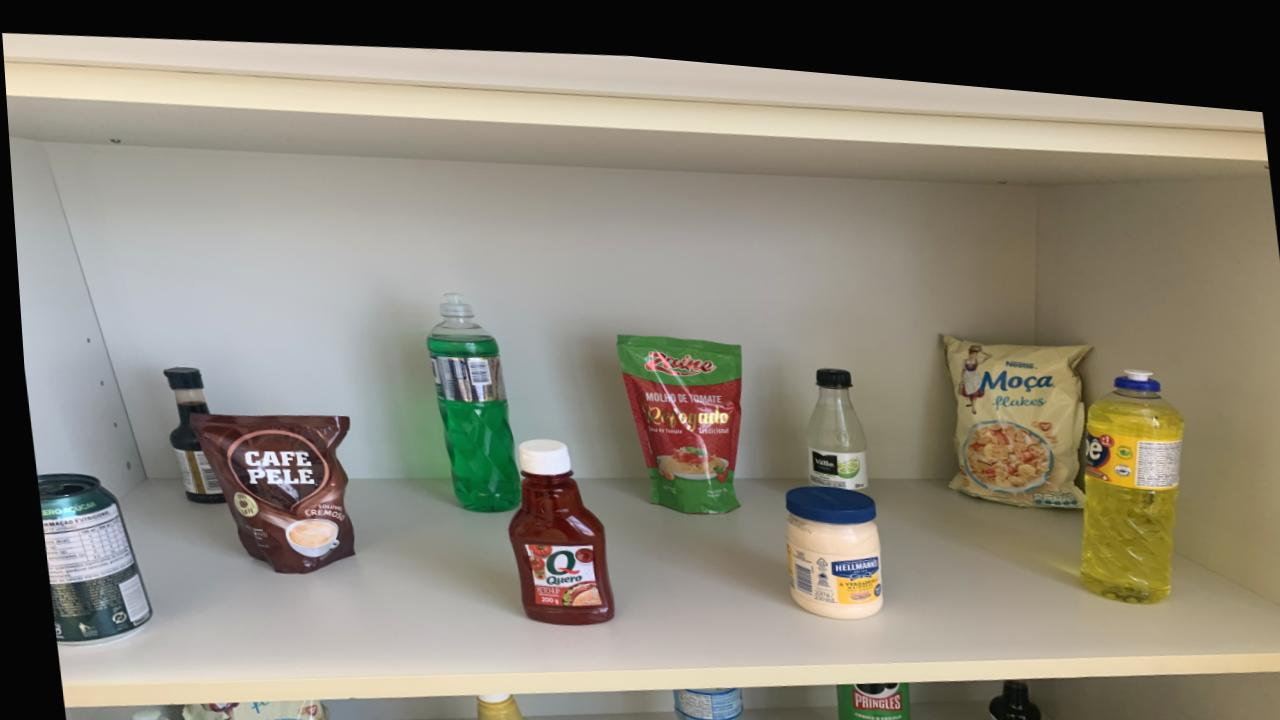Coffee-Pantry_Items: (185, 410, 347, 569)
Detergent-Cleanup_Items: (1074, 347, 1179, 582), (422, 287, 513, 503), (122, 707, 160, 720)
English_Sauce-Pantry_Items: (158, 364, 216, 500), (979, 662, 1033, 720)
Flakes-Snacks: (938, 318, 1086, 489), (171, 695, 319, 720)
Guarana_Can-Drinks: (30, 473, 144, 644)
Ketchup-Pantry_Items: (501, 429, 607, 615)
Mayonnaise-Pantry_Items: (778, 471, 876, 603)
Mustard-Pantry_Items: (462, 685, 525, 720)
Pringles-Snacks: (827, 666, 902, 720)
Soda-Drinks: (800, 353, 862, 474)
Tomato_Sauce-Pantry_Items: (611, 323, 738, 501)
Water_Bottle-Drinks: (665, 674, 734, 720)
